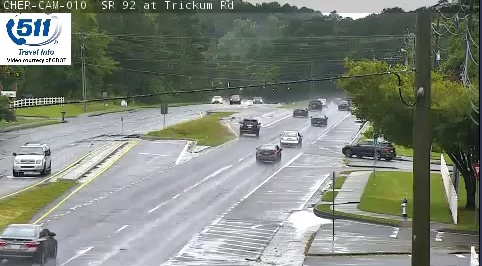car: (1, 223, 57, 261), (256, 143, 281, 161), (280, 130, 302, 147), (239, 119, 259, 135), (311, 113, 327, 126), (293, 107, 308, 118)
